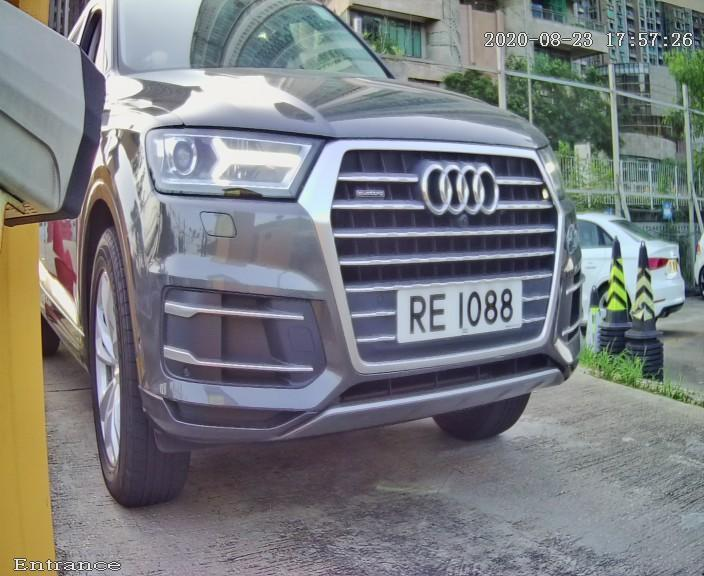Car: (35, 6, 610, 497)
License Plate: (381, 263, 532, 353)
